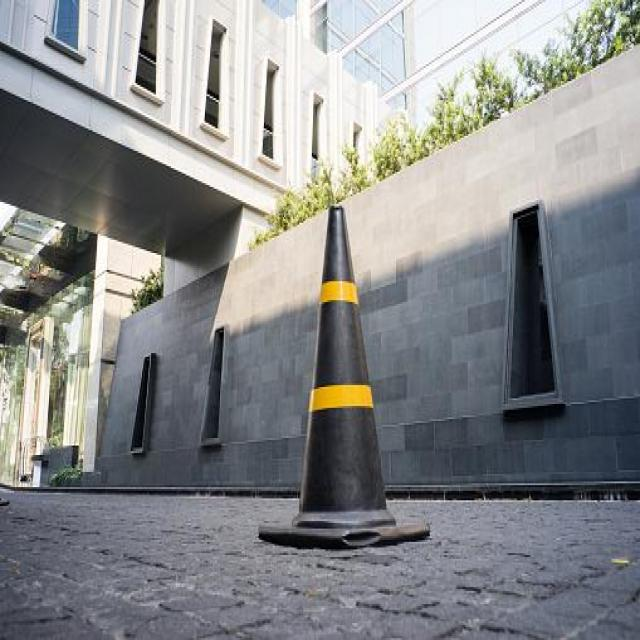Cone: (260, 202, 434, 553)
